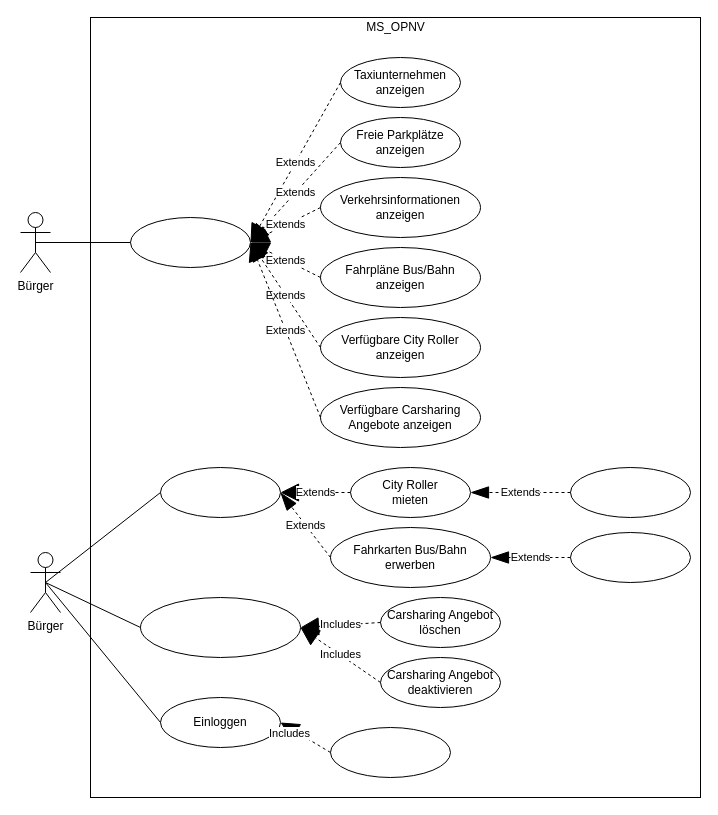
Image size: 718x815. Some labels were removed from this diagram. Here are the shapes that lost their labels. From the top down, the centre of each, then its label:
At [190,242]: "Einsehen".
At [220,492]: "Buchen".
At [630,492]: "City Roller freigeben".
At [630,557]: "Monatskarte erwerben".
At [220,627]: "Carsharing Angebot veröffentlichen".
At [390,752]: "Ausloggen".
